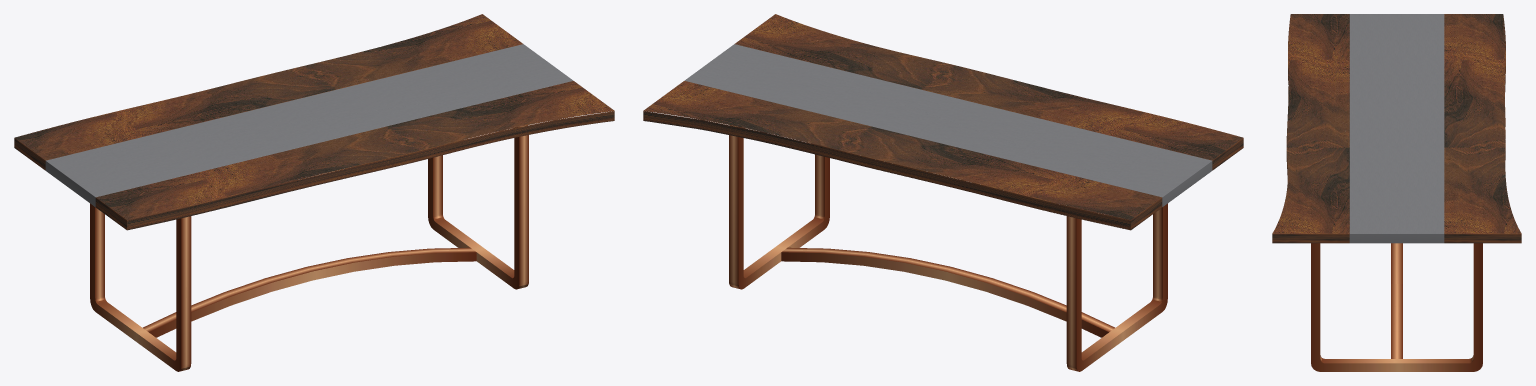
The model's file is epona.gltf.
The picture shows the model from 3 angles, left to right: view 1: azimuth 30°, elevation 25°; view 2: azimuth 150°, elevation 25°; view 3: azimuth 270°, elevation 25°; orthographic projection. The views are drawn at different scales.
Parts seen in each view (by area): view 1: mesh_2; view 2: mesh_2; view 3: mesh_2.
Part boxes in pixels (x1,y1,x2,y2): mesh_2: (14, 14, 614, 371); mesh_2: (643, 14, 1243, 371); mesh_2: (1272, 14, 1521, 371).
Bounding box in the file's own units: 220 × 78.5 × 106.
Materials: 4 (4 with a texture image).
